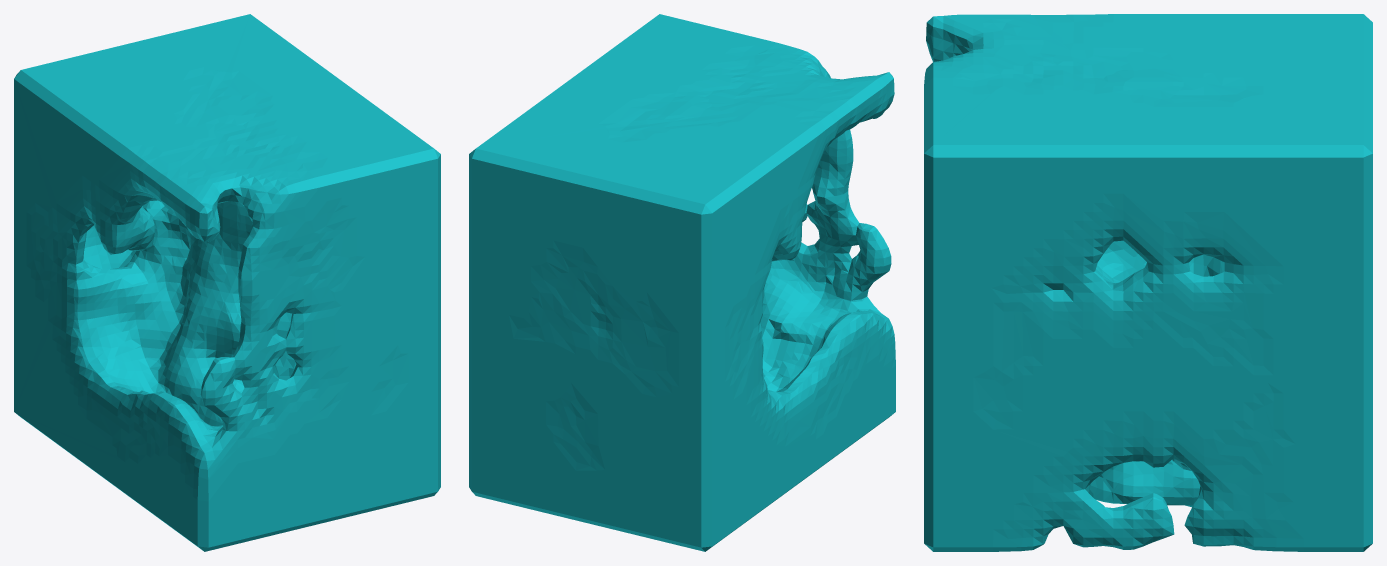
The picture shows the model from 3 angles, left to right: view 1: azimuth 30°, elevation 25°; view 2: azimuth 150°, elevation 25°; view 3: azimuth 270°, elevation 25°; orthographic projection. The views are drawn at different scales.
Parts seen in each view (by area): view 1: Liquid_Domain; view 2: Liquid_Domain; view 3: Liquid_Domain.
Part boxes in pixels (x1=…): Liquid_Domain: x1=14, y1=14, x2=440, y2=551; Liquid_Domain: x1=469, y1=14, x2=895, y2=551; Liquid_Domain: x1=924, y1=14, x2=1372, y2=551.
Bounding box in the file's own units: 79.09 × 108 × 108.
